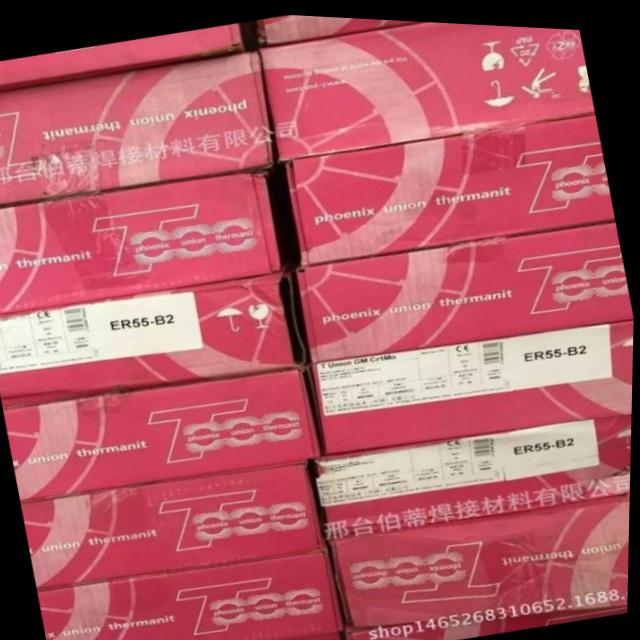box: (285, 107, 616, 263), (296, 213, 635, 358), (260, 17, 595, 160), (309, 312, 635, 452), (4, 364, 322, 503), (0, 46, 275, 206), (0, 267, 308, 408), (0, 165, 283, 317), (316, 405, 633, 536), (24, 456, 331, 591), (333, 492, 632, 624), (41, 544, 348, 640), (0, 20, 243, 90), (348, 585, 630, 640), (256, 12, 418, 43), (274, 629, 348, 640)
